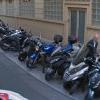Motorcycle: (22, 29, 100, 100)
